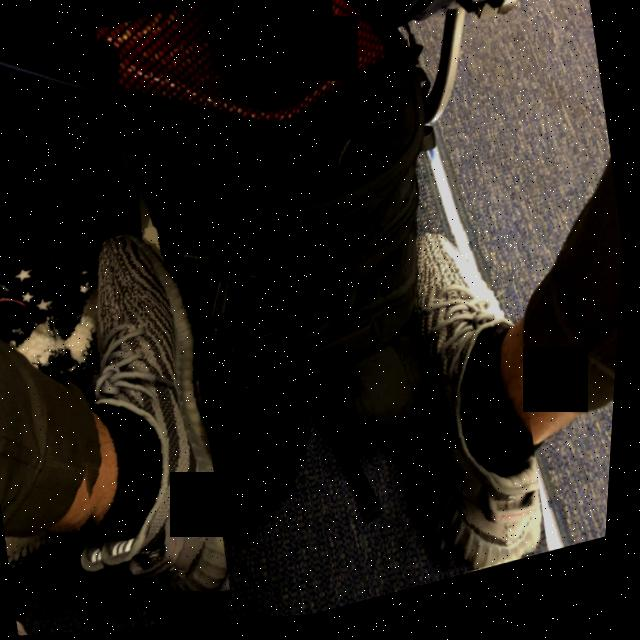shoe: (24, 217, 256, 637), (376, 218, 571, 593)
